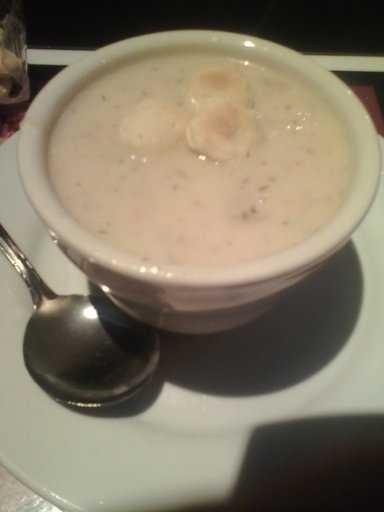soup: (32, 26, 371, 274)
